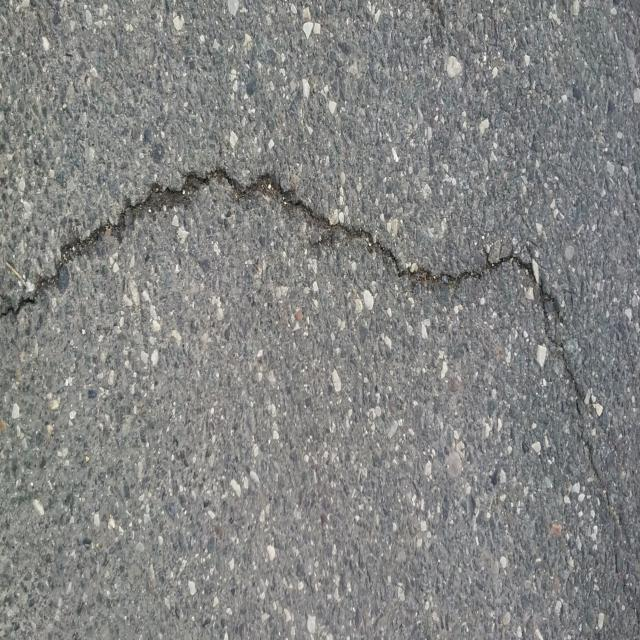Crack: (0, 169, 640, 638)
